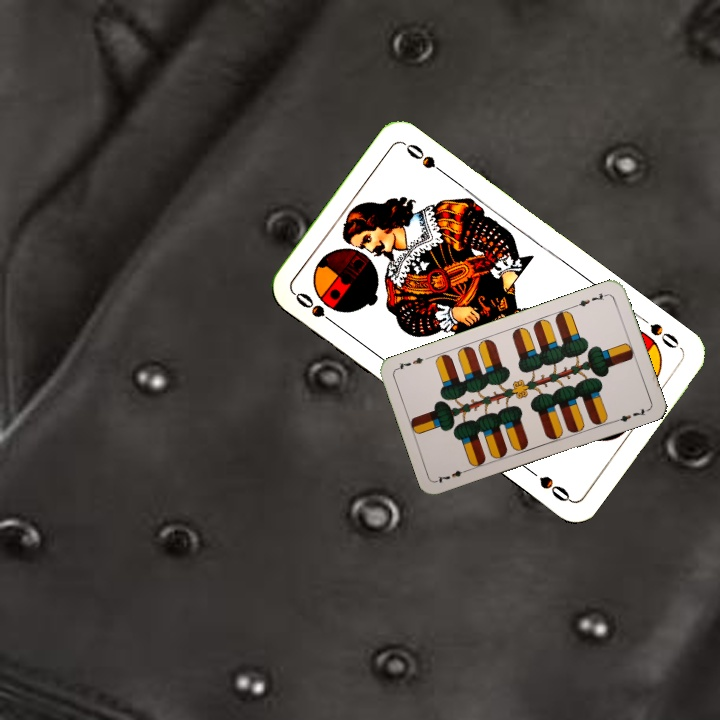E7: (571, 289, 610, 310), (433, 465, 472, 485)
SO: (290, 288, 341, 329), (634, 311, 685, 352)
